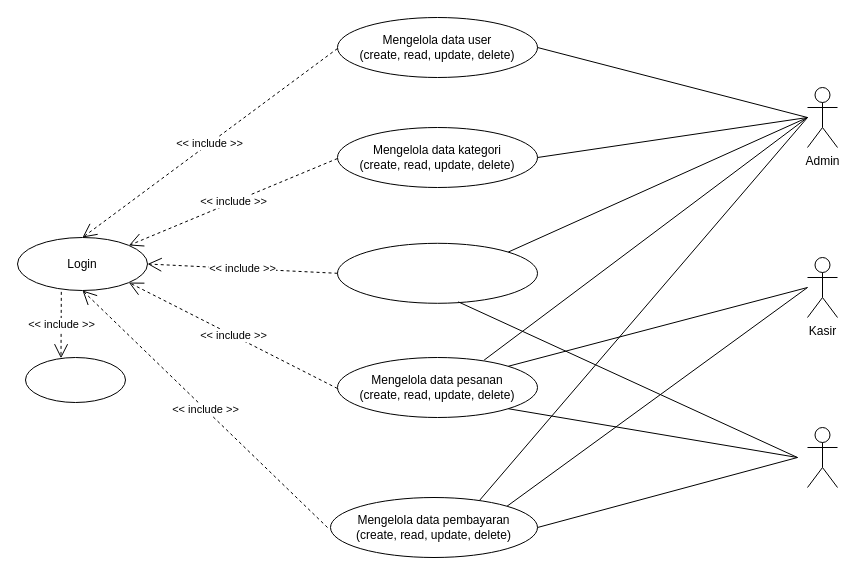
This 857x575 diagram has some shape labels left out. The centre of each missing label's shape, as x and y in pixels:
Mengelola data produk (create, read, update, delete): (437,272)
Registrasi: (75,379)
User: (822,457)
